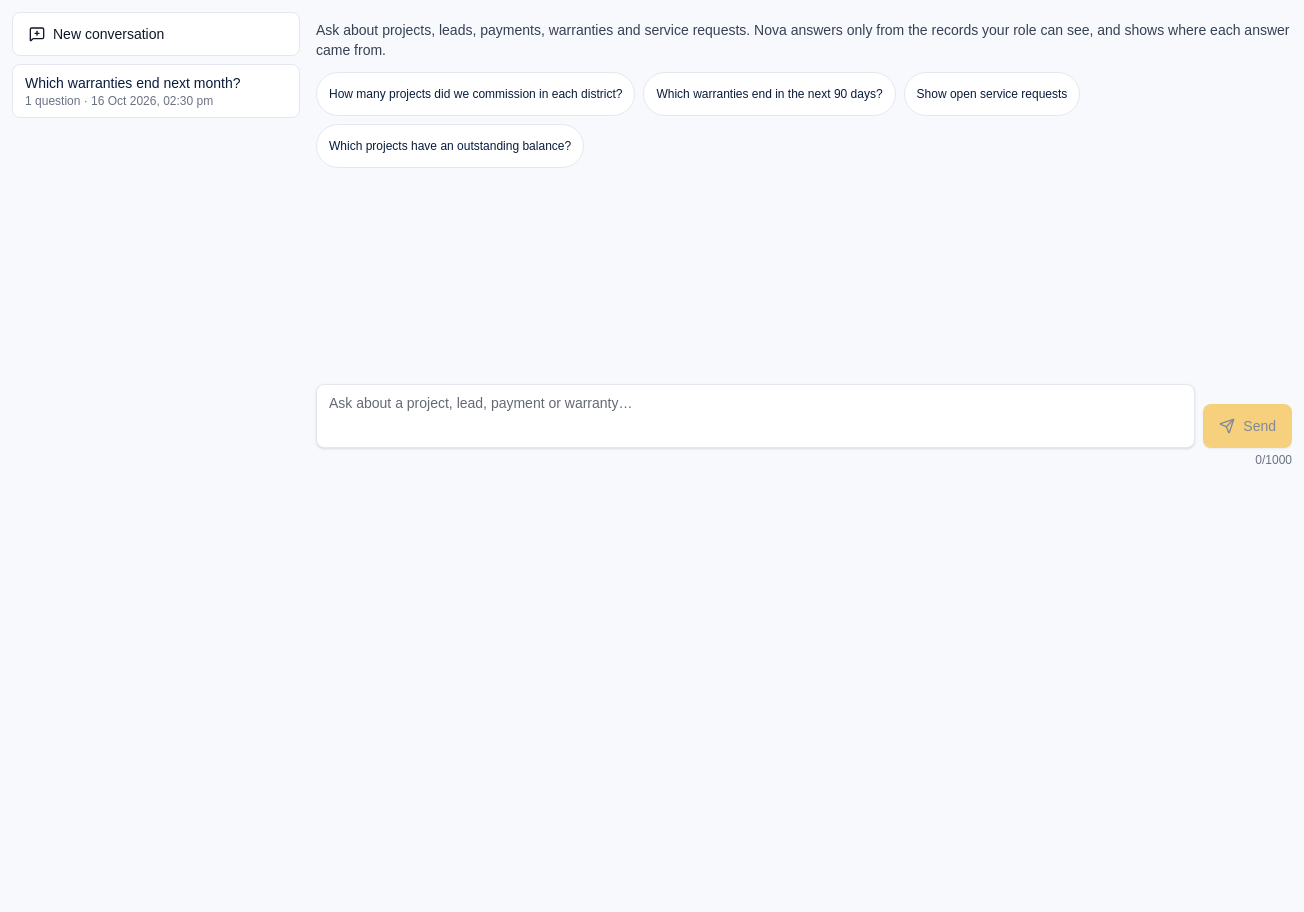
answer rendering › cites records as chips: a link where a page opens the record, plain text where none does
The image size is (1304, 912).
Type "q" into the text box named "Your question for Nova".
click(756, 416); type("q")  # box [316,384,1195,448]
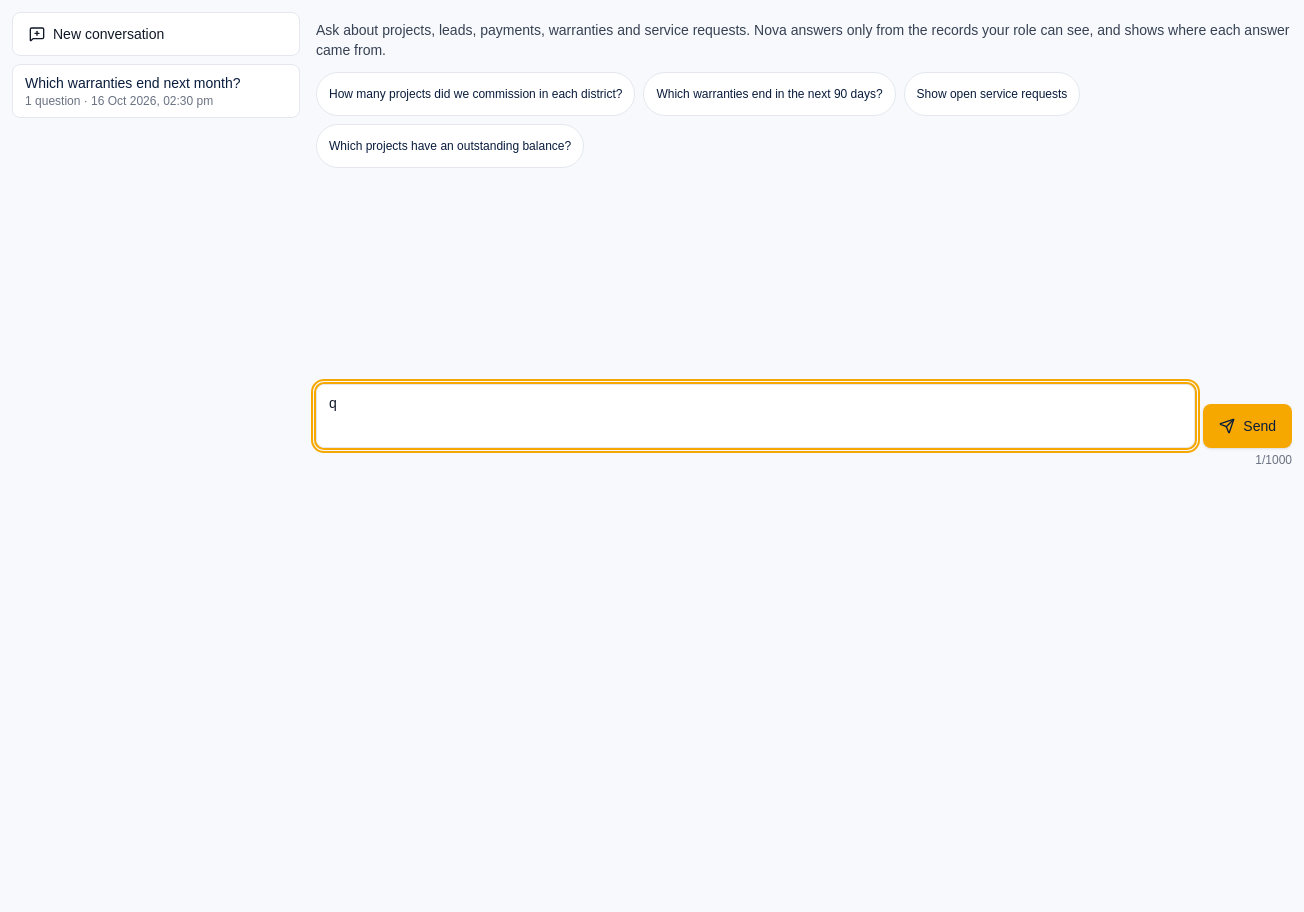
Click the button with aria-label "Send question".
click(1248, 426)  # box [1203,404,1292,448]
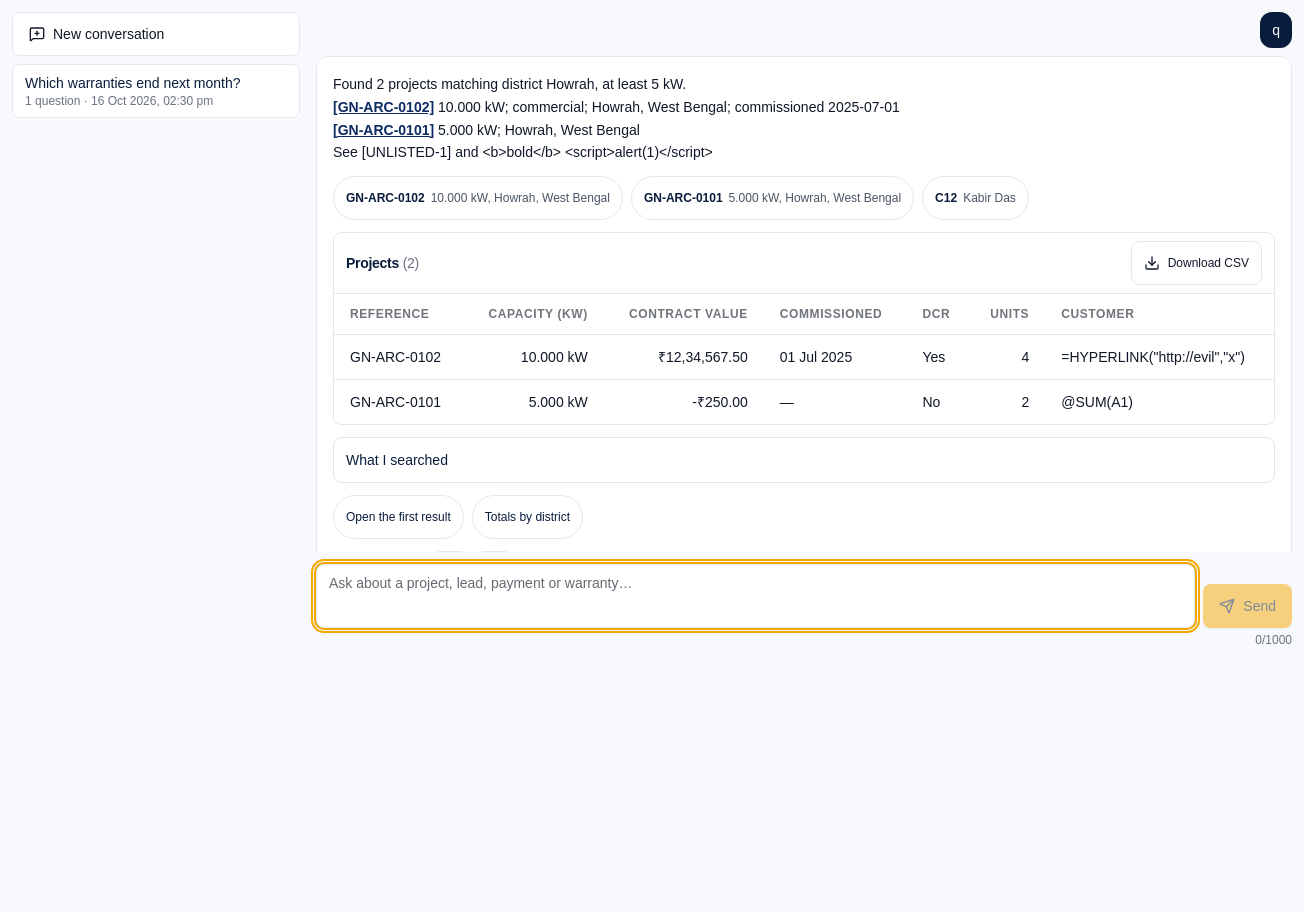
expect the element with test id "nova-answer" is shown: met, box [316,56,1292,552]
expect the element with test id "citation-plain" shows "C12": met, box [935,191,957,205]
